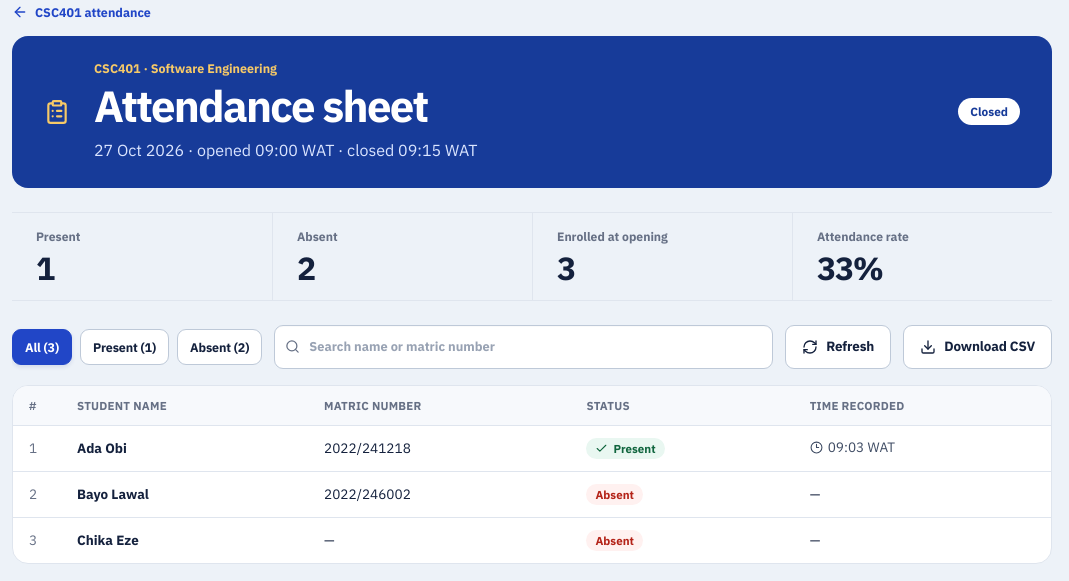
Test: filters and search narrow the sheet
Click the button "Absent (2)" at (220, 347), box [177,329,262,365]
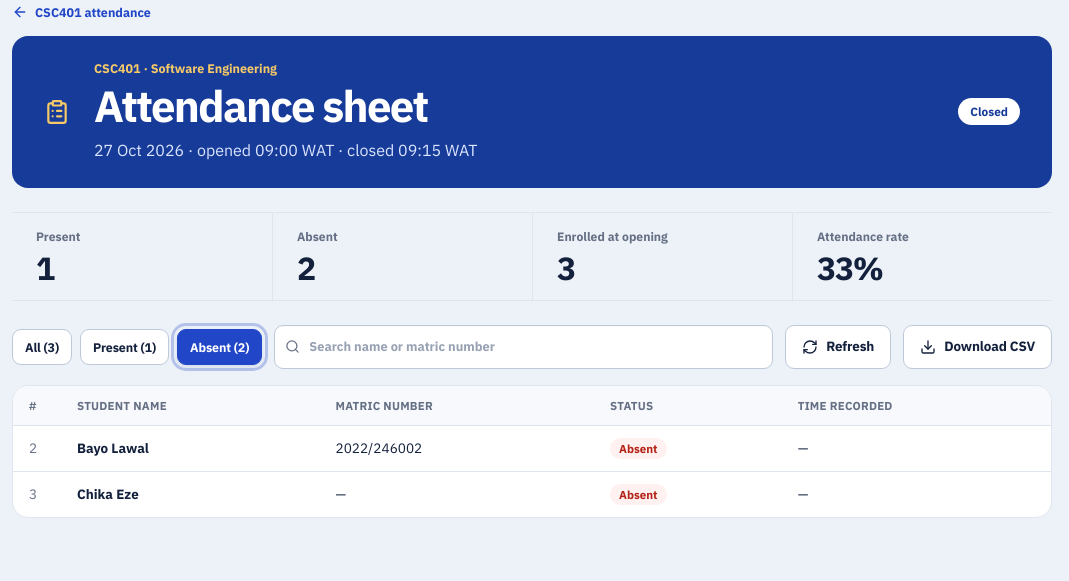
Check: the column heading "Bayo Lawal" is shown, box [61,425,320,471]
Check: the column heading "Ada Obi" is gone
Type "chika" into the search field named "Search students" at (524, 347), box [274,325,773,369]
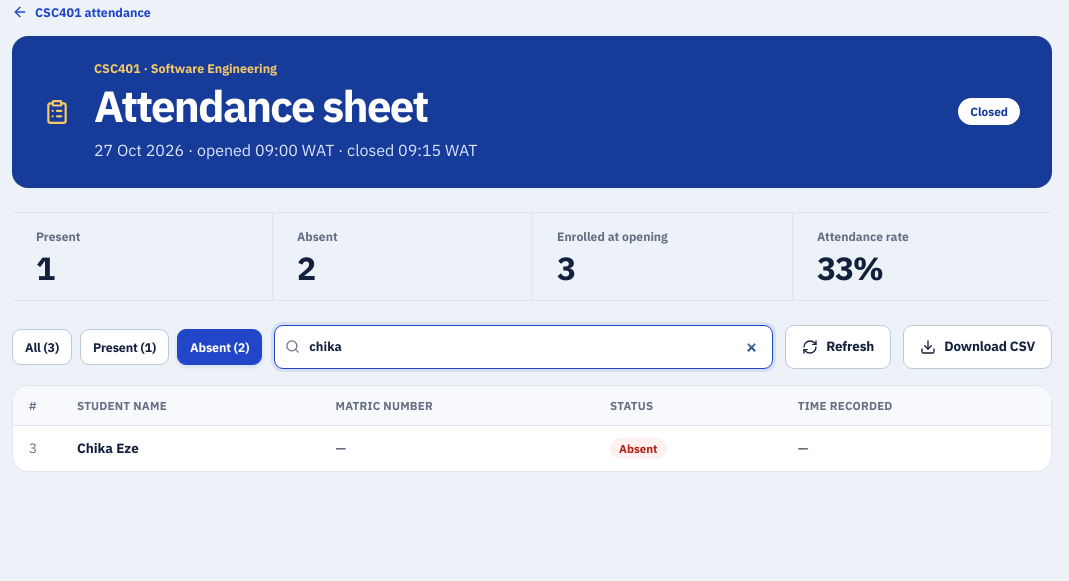
Check: the column heading "Chika Eze" is shown, box [61,425,320,471]
Check: the column heading "Bayo Lawal" is gone
Type "zzz" into the search field named "Search students" at (524, 347), box [274,325,773,369]
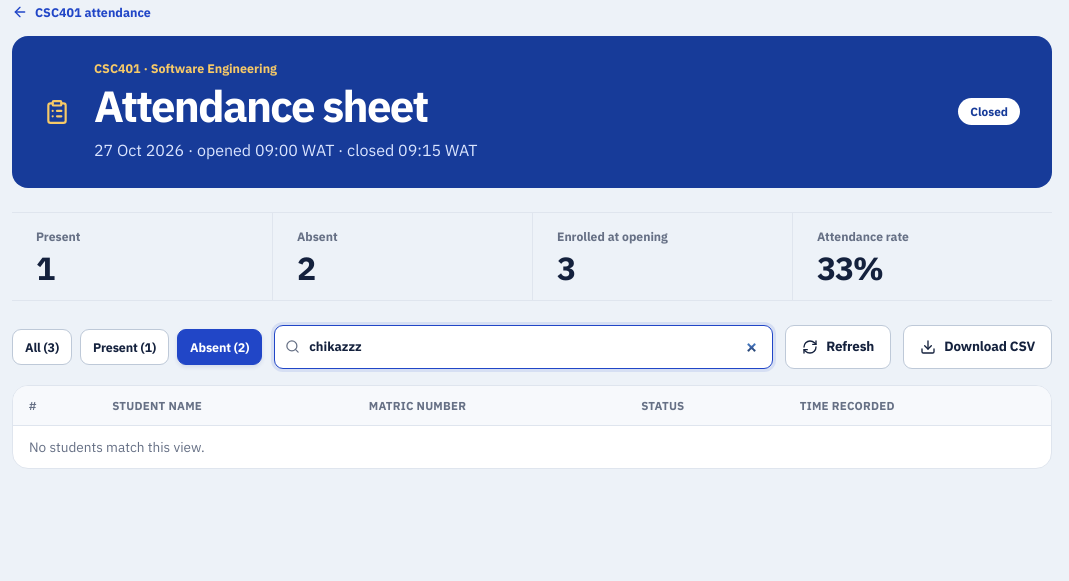
Check: the text "No students match this view." is shown, box [13,425,1051,468]
